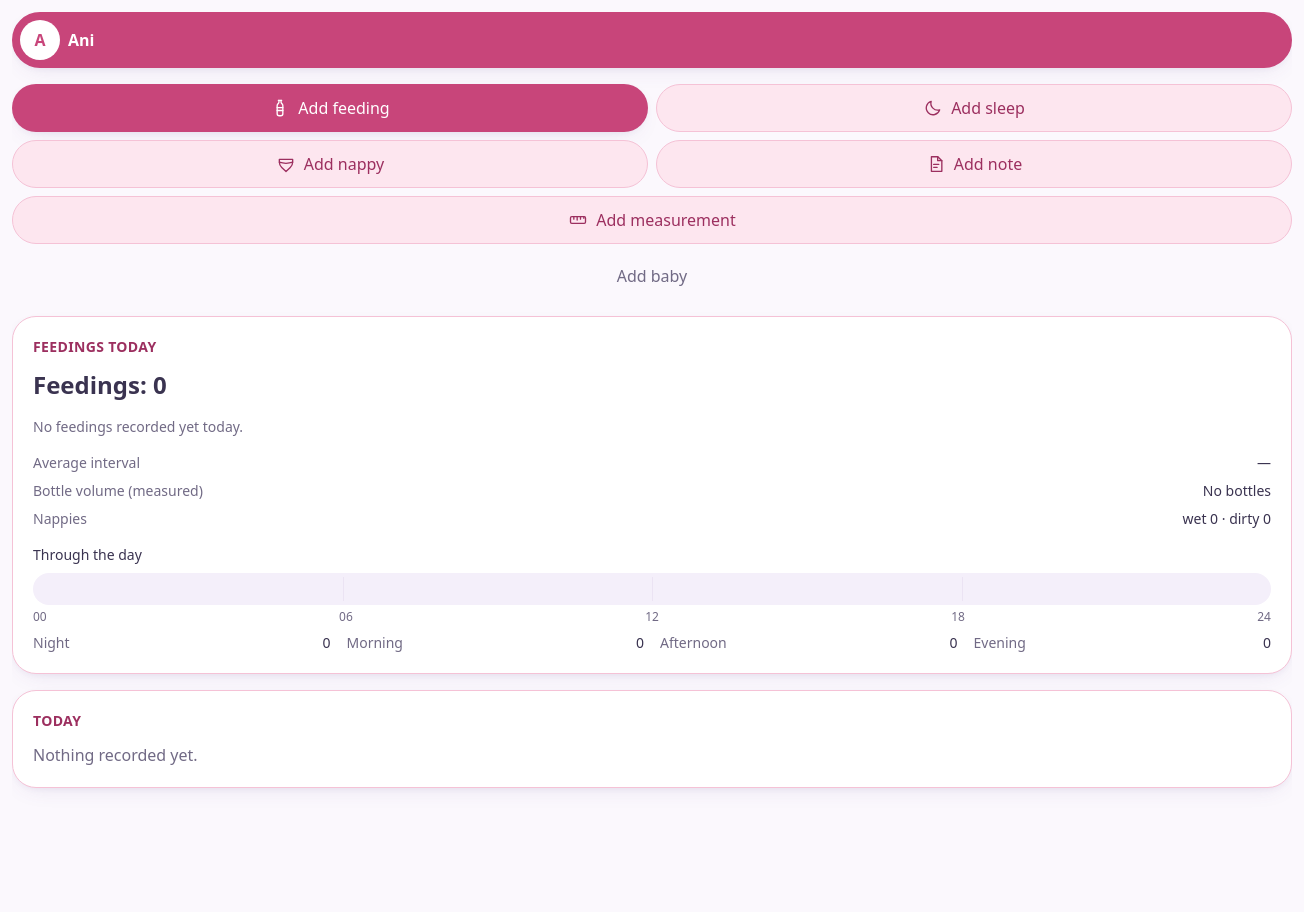
Today’s measurement shortcut › opens the growth form for the selected baby and confirms the save
Click the button "Add measurement".
click(652, 220)  # box top-left (12, 196), bottom-right (1292, 244)
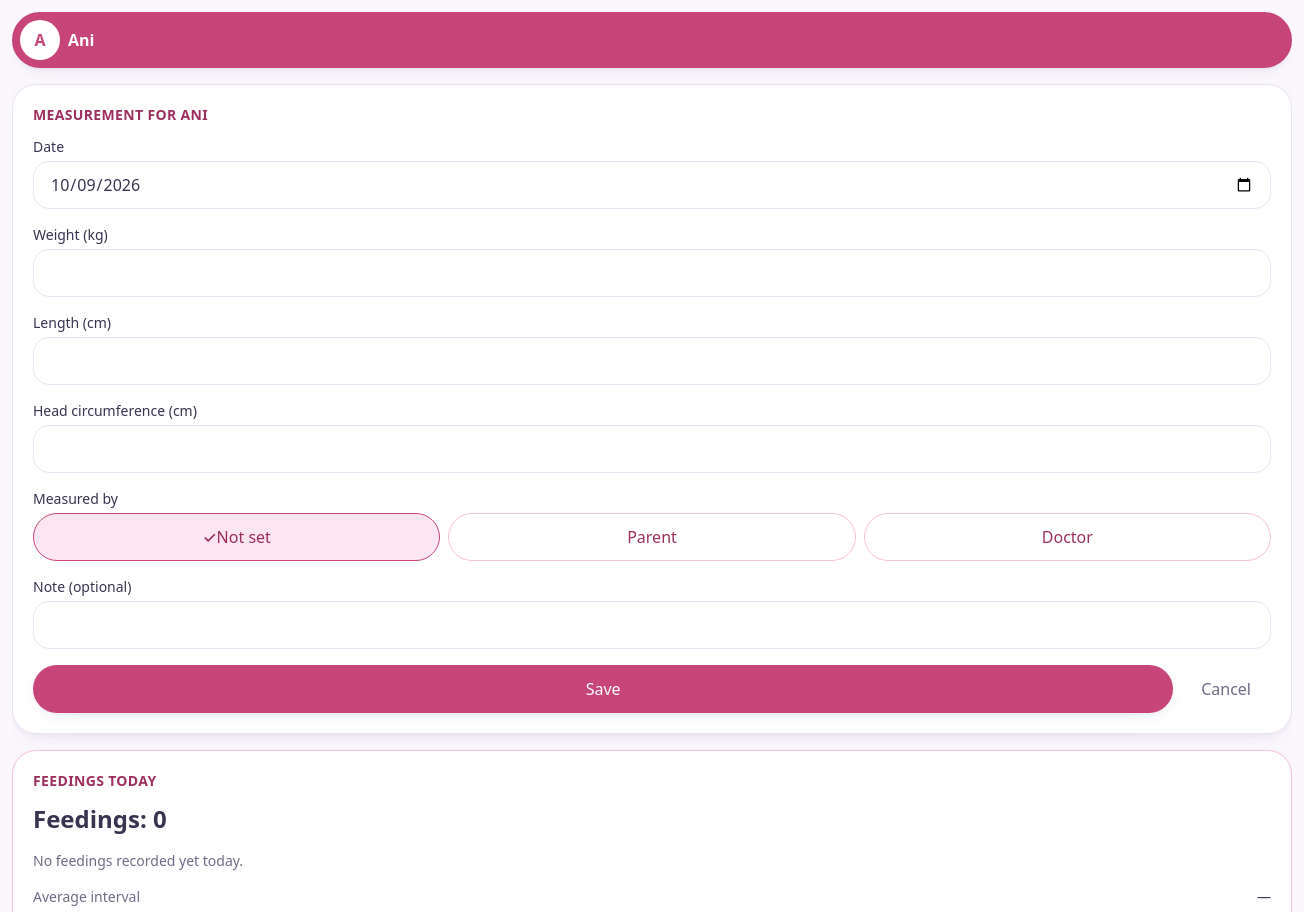
Check: the heading "Measurement for Ani" is shown, box top-left (33, 105), bottom-right (208, 124)
Type "4.3" into the field labelled "Weight (kg)".
click(652, 273); type("4.3")  # box top-left (33, 249), bottom-right (1271, 297)
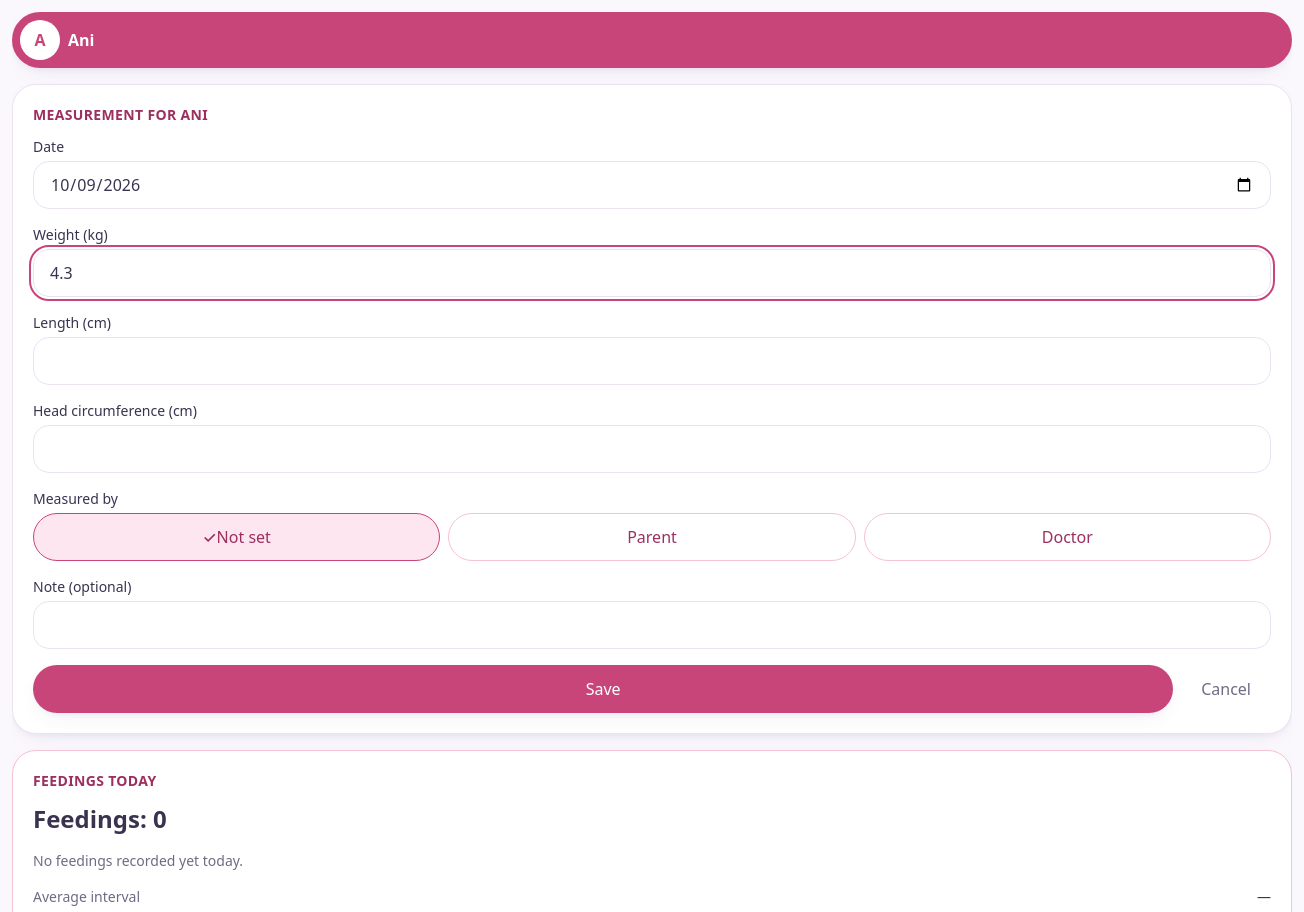
Click the button "Save".
click(603, 689)  # box top-left (33, 665), bottom-right (1173, 713)
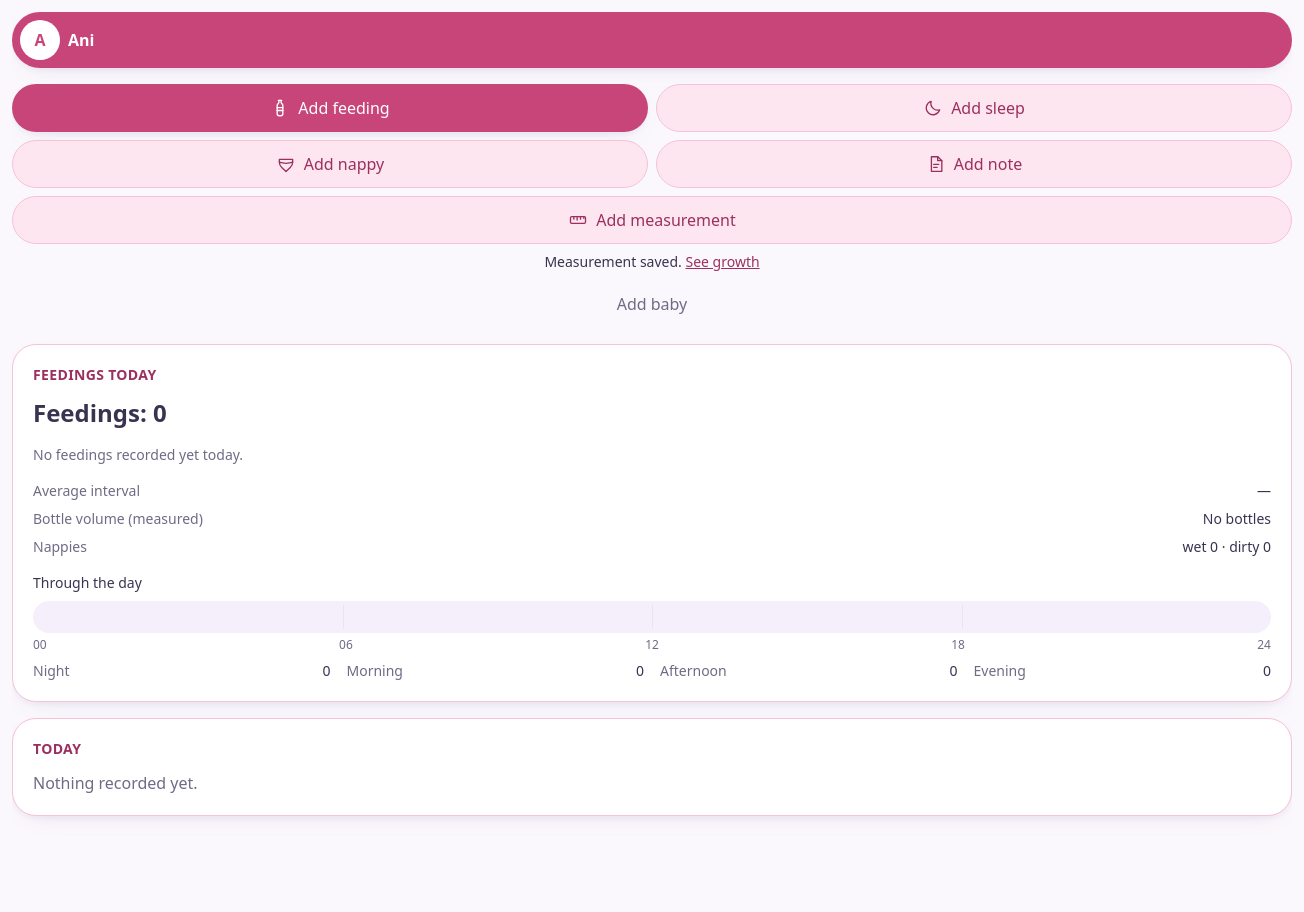
Check: the message shows "Measurement saved.", box top-left (544, 252), bottom-right (682, 271)
